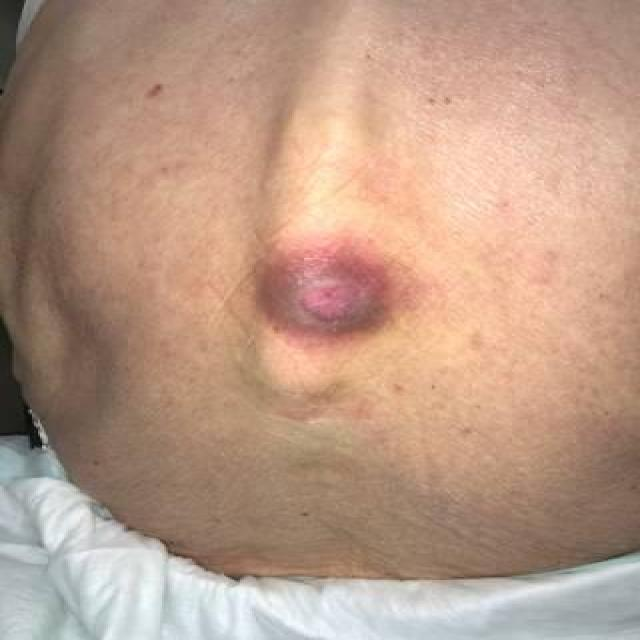DTI: (257, 242, 414, 336)
